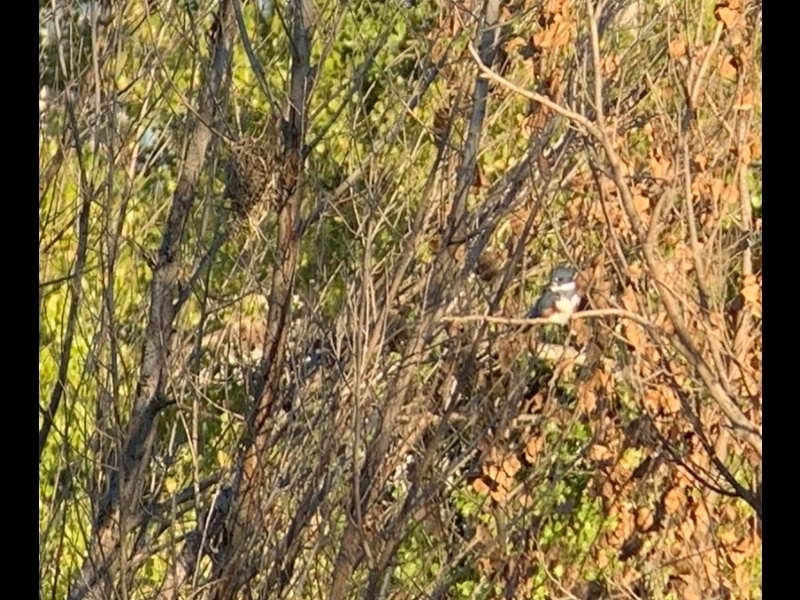kingfisher: (520, 263, 583, 332)
